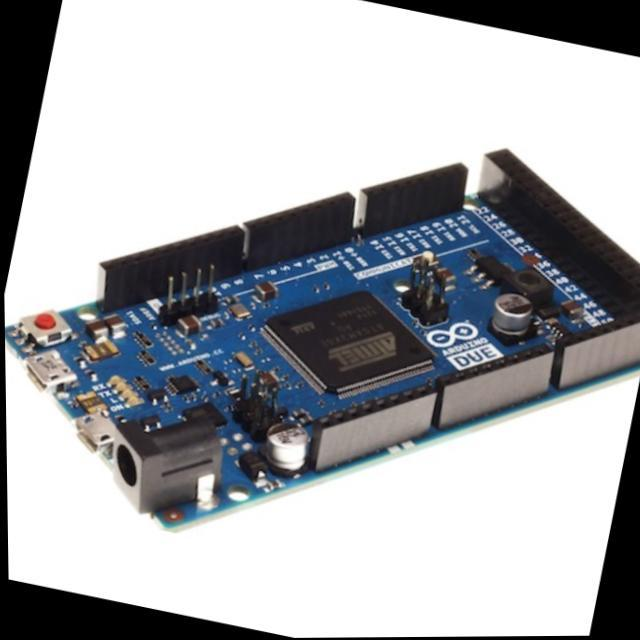Arduino-Due: (7, 152, 640, 528)
